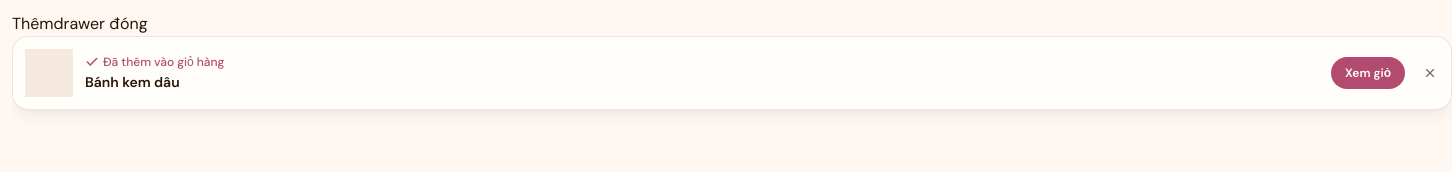
Test case: adding to cart confirms with a toast › "Xem giỏ" opens the order summary drawer and closes the toast
The width and height of the screenshot is (1452, 172).
Earlier steps of the test are not shown.
expect the text "drawer đóng" is shown: met, box [54, 13, 148, 34]
Click the button "Xem giỏ".
click(1368, 73)  # box [1331, 57, 1405, 89]
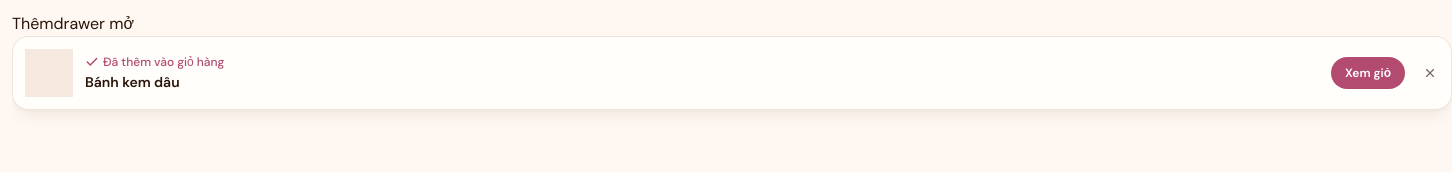
expect the text "drawer mở" is shown: met, box [54, 13, 134, 34]
